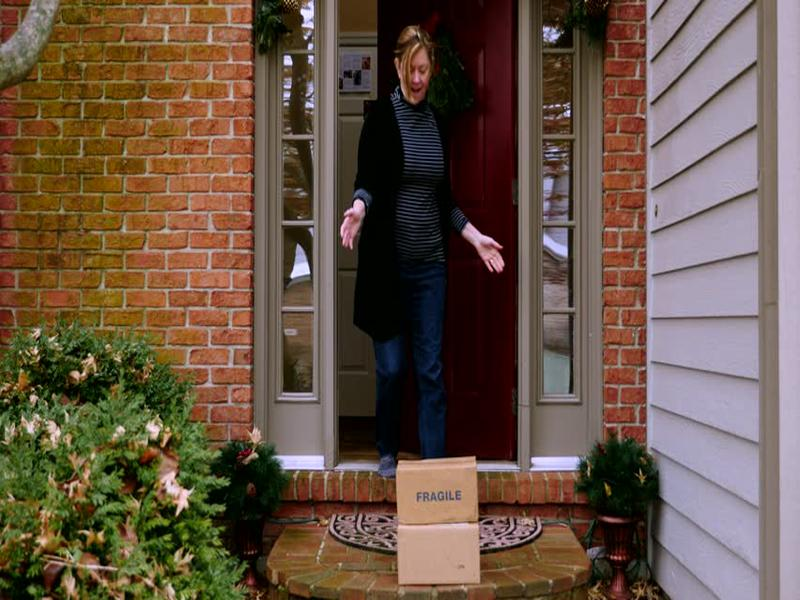package: (388, 447, 481, 527), (392, 521, 488, 589)
